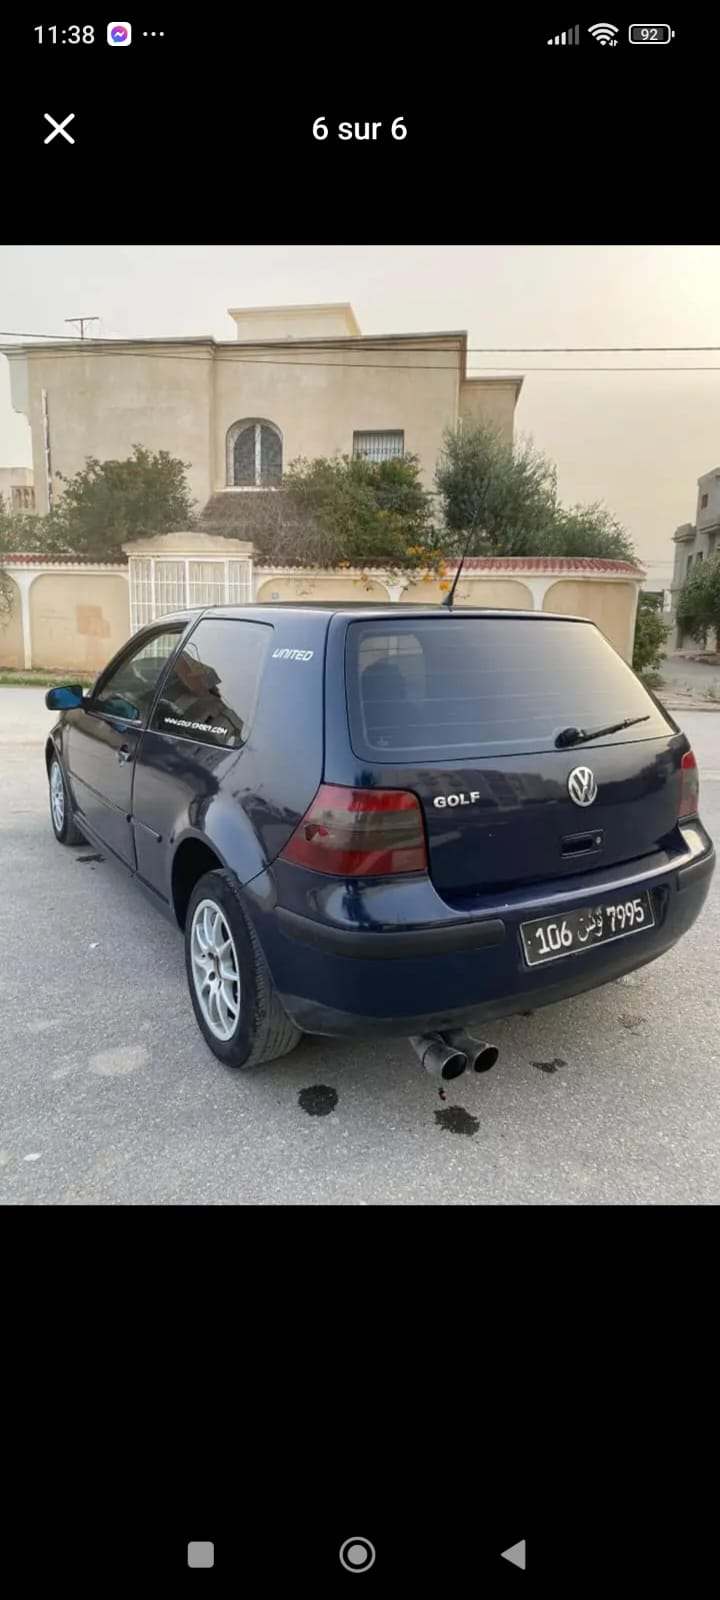volkswagen: (42, 601, 720, 1074)
